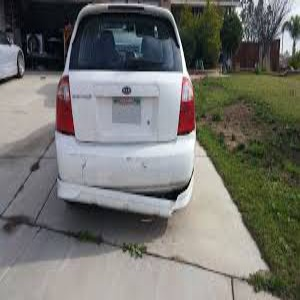bumper: (71, 175, 195, 220)
